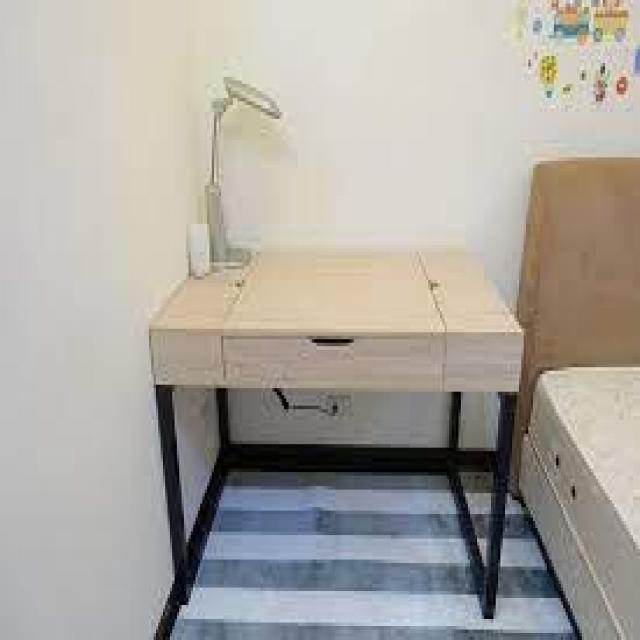table: (118, 171, 536, 591)
